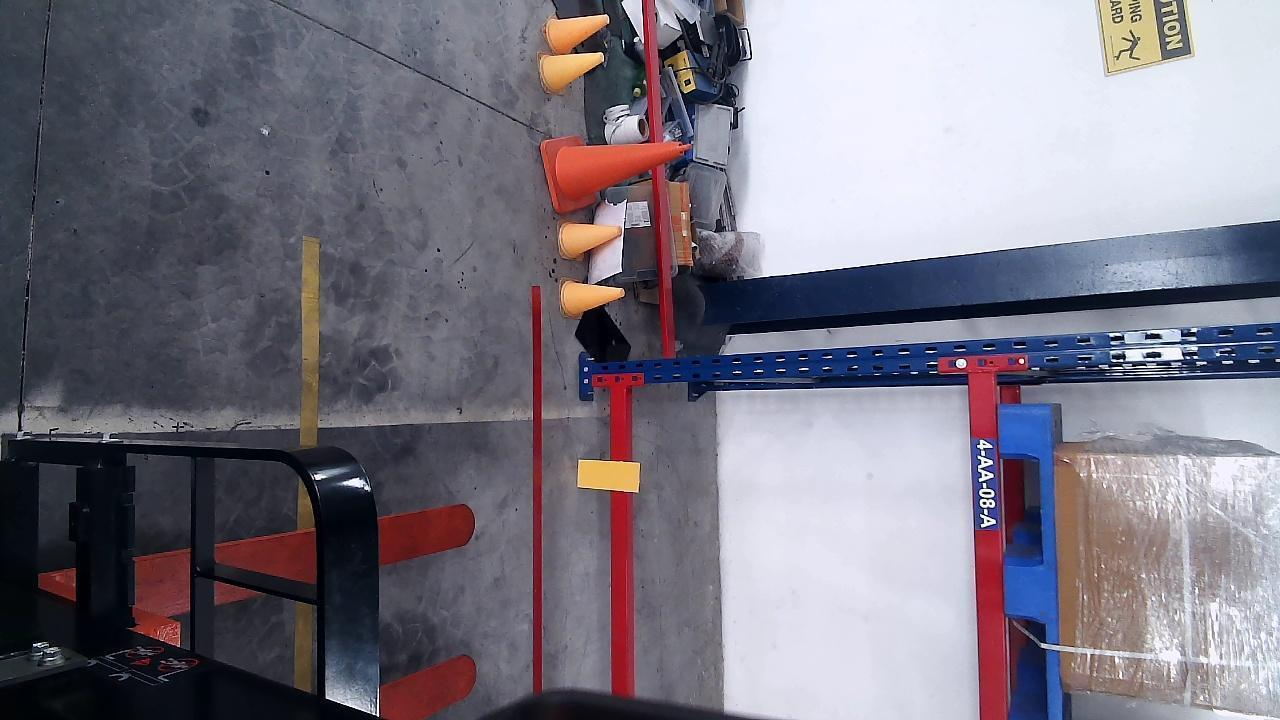red_line: (531, 286, 545, 693)
yellow_line: (300, 237, 319, 449)
